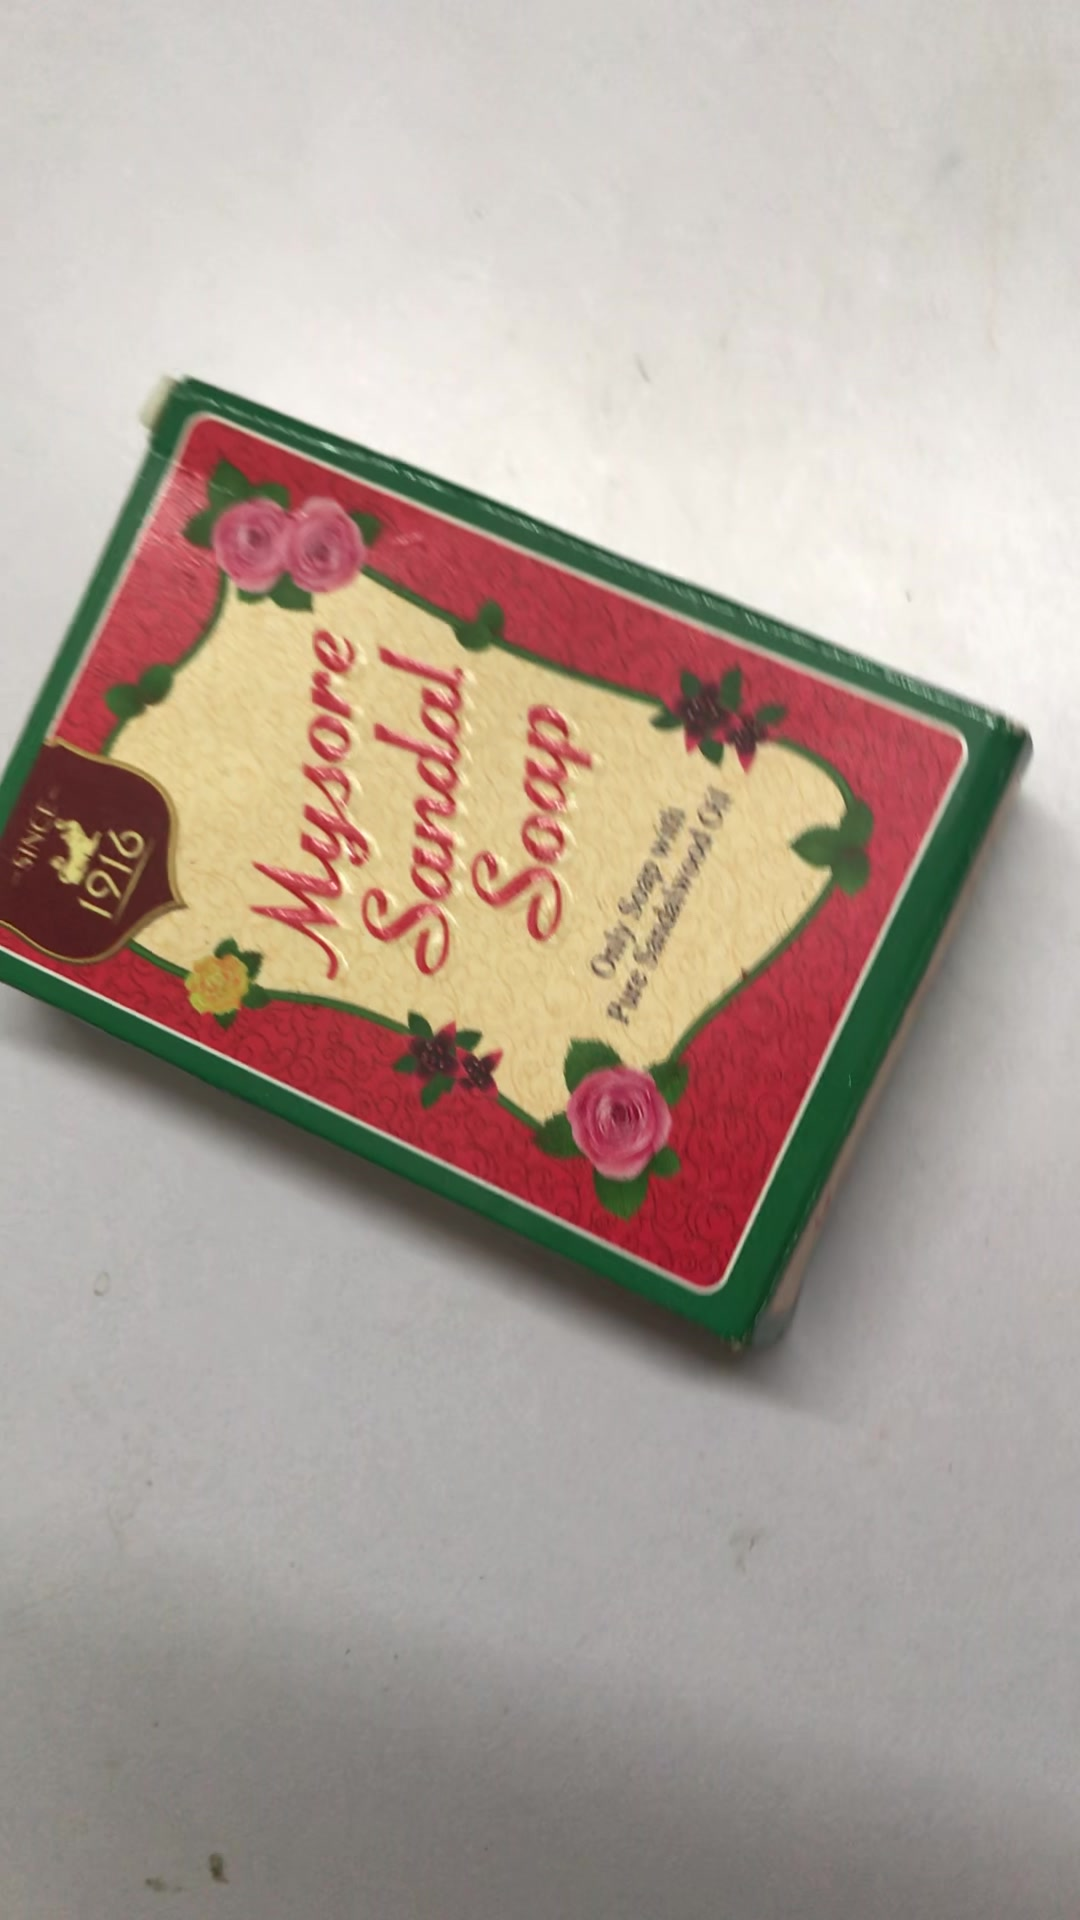mysore sandal soap: (5, 361, 1033, 1356)
